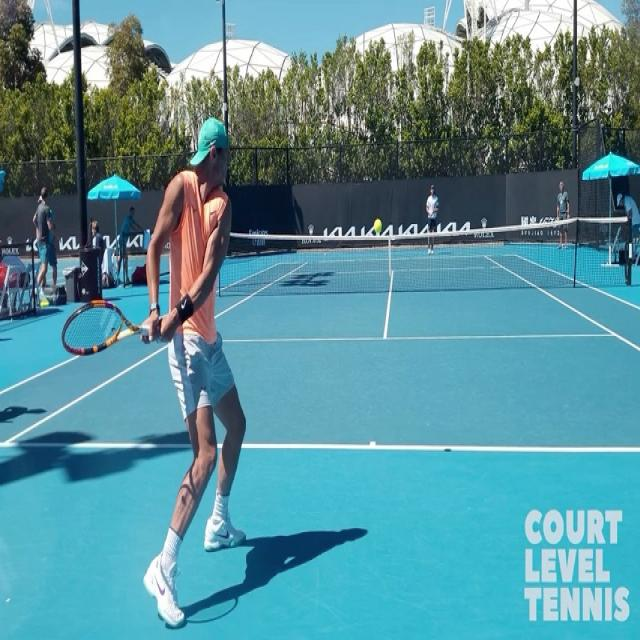backhand-stroke: (60, 103, 242, 624)
